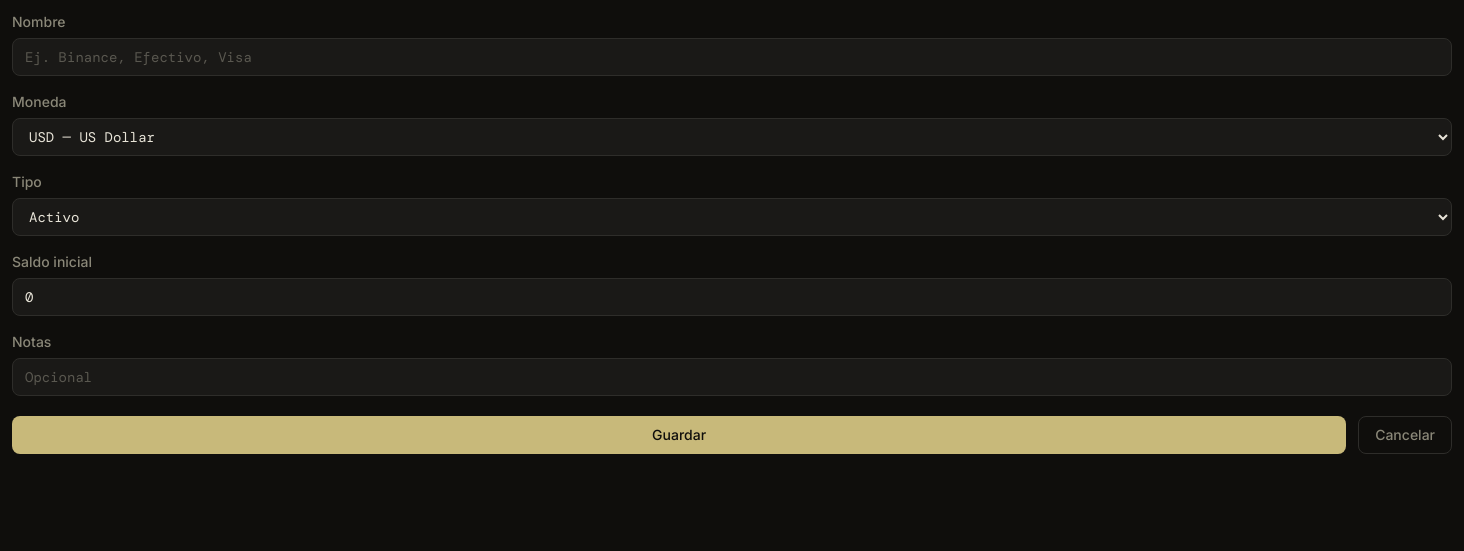
Test: WalletForm › shows credit limit field only when type is credit
Check: the field labelled "límite" is not shown
Select "Crédito" in the dropdown labelled "Tipo" at (732, 217), box [12, 198, 1452, 236]
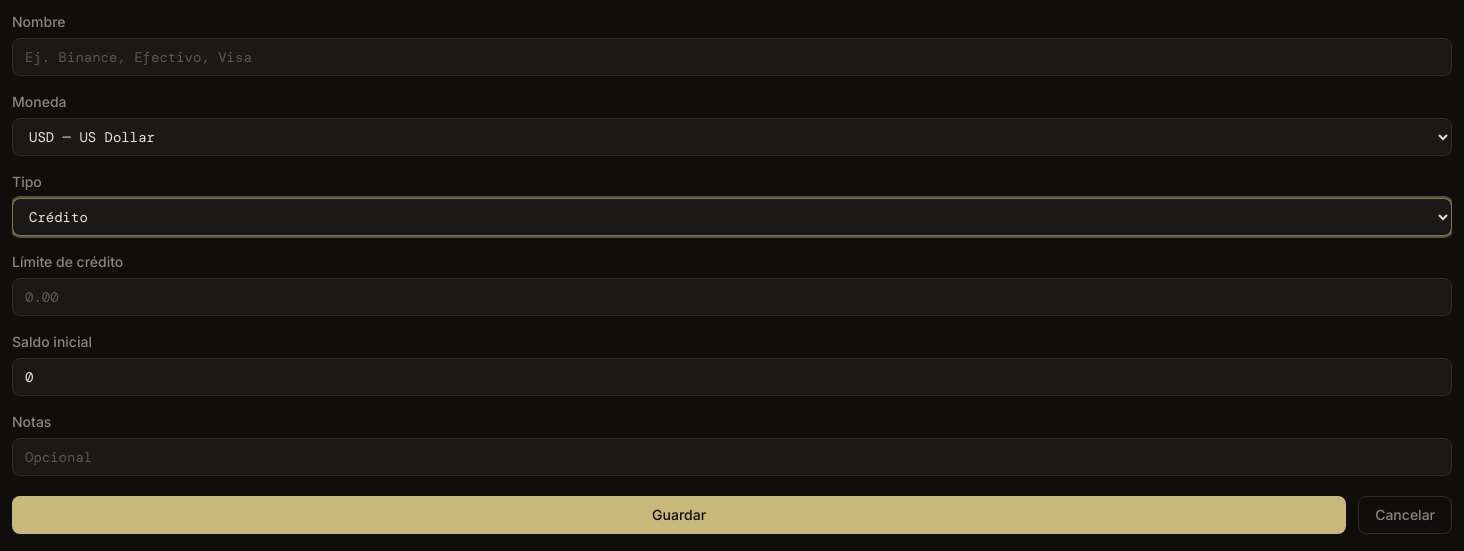
Check: the number field labelled "Límite de crédito" is shown, box [12, 278, 1452, 316]
